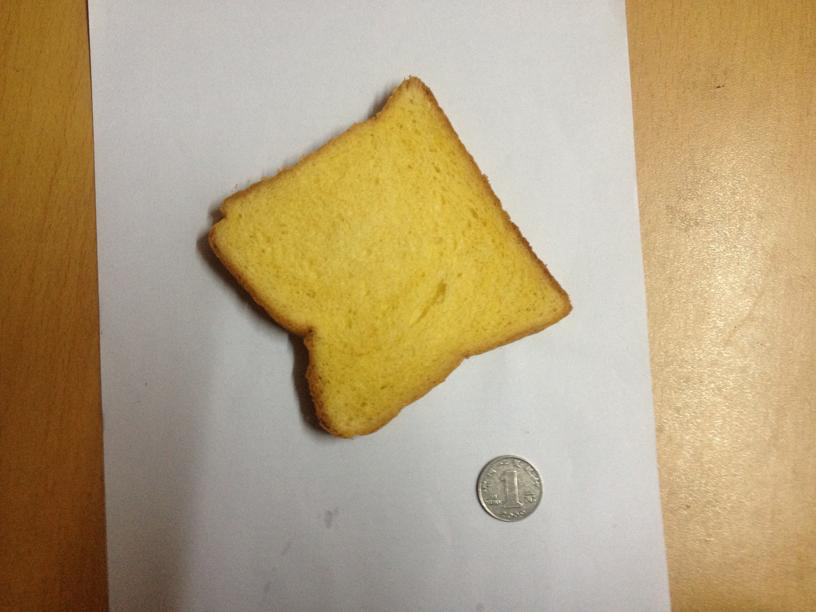bread: (191, 76, 575, 436)
coin: (474, 456, 541, 521)
